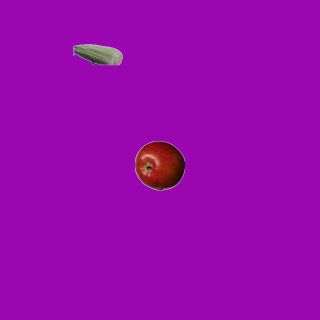Apple Braeburn: (134, 140, 184, 190)
Corn Husk: (72, 29, 122, 79)
